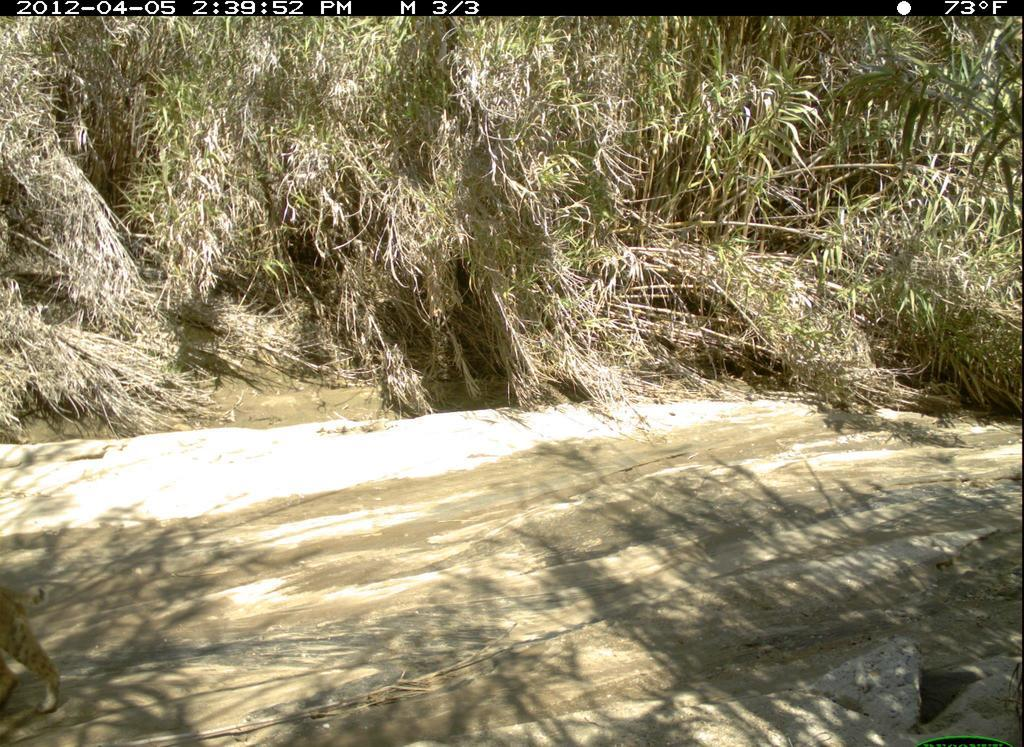bobcat: (1, 569, 91, 723)
